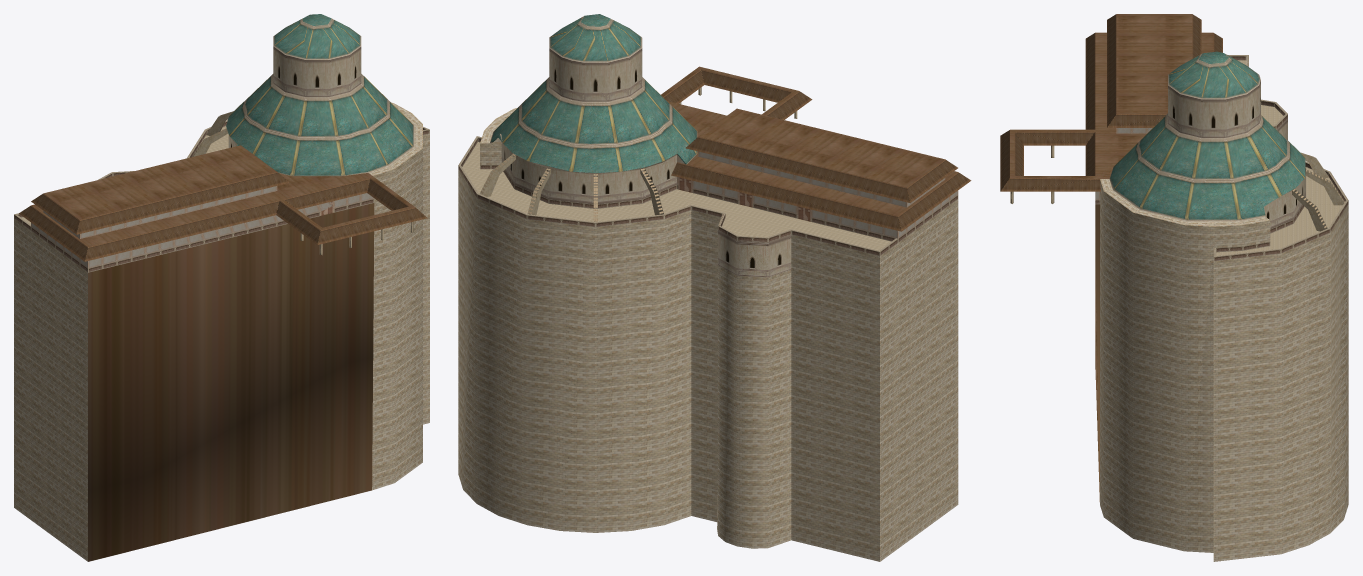
Rendered from thm_nboo_thed_emp_retreat_r0_mesh_l2.fbx.
3 views of the same model, side by side, from view 1: azimuth 30°, elevation 25°; view 2: azimuth 150°, elevation 25°; view 3: azimuth 270°, elevation 25° (orthographic). The views are drawn at different scales.
Parts seen in each view (by area): view 1: mesh_node; view 2: mesh_node; view 3: mesh_node.
Boxes of the visible parts, x1,y1,x2,y2 form: mesh_node: (14, 14, 429, 561); mesh_node: (458, 14, 971, 561); mesh_node: (1000, 14, 1348, 561).
Bounding box in the file's own units: 103 × 104 × 73.5.
